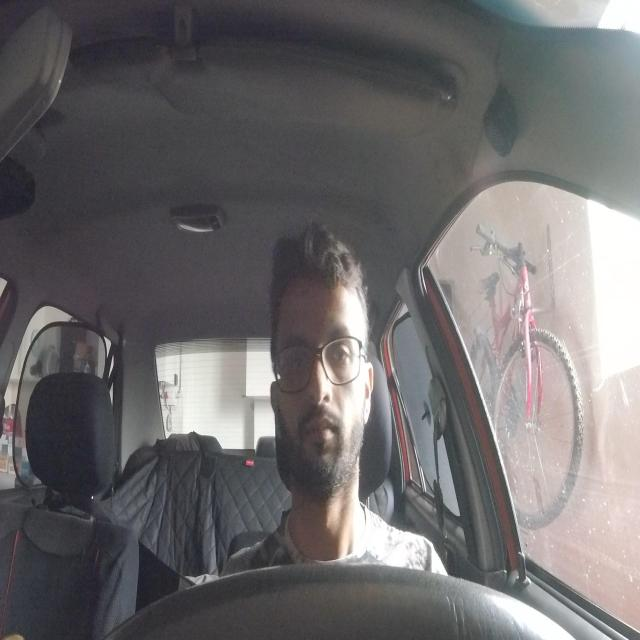open: (322, 323, 359, 374), (281, 334, 312, 383)
